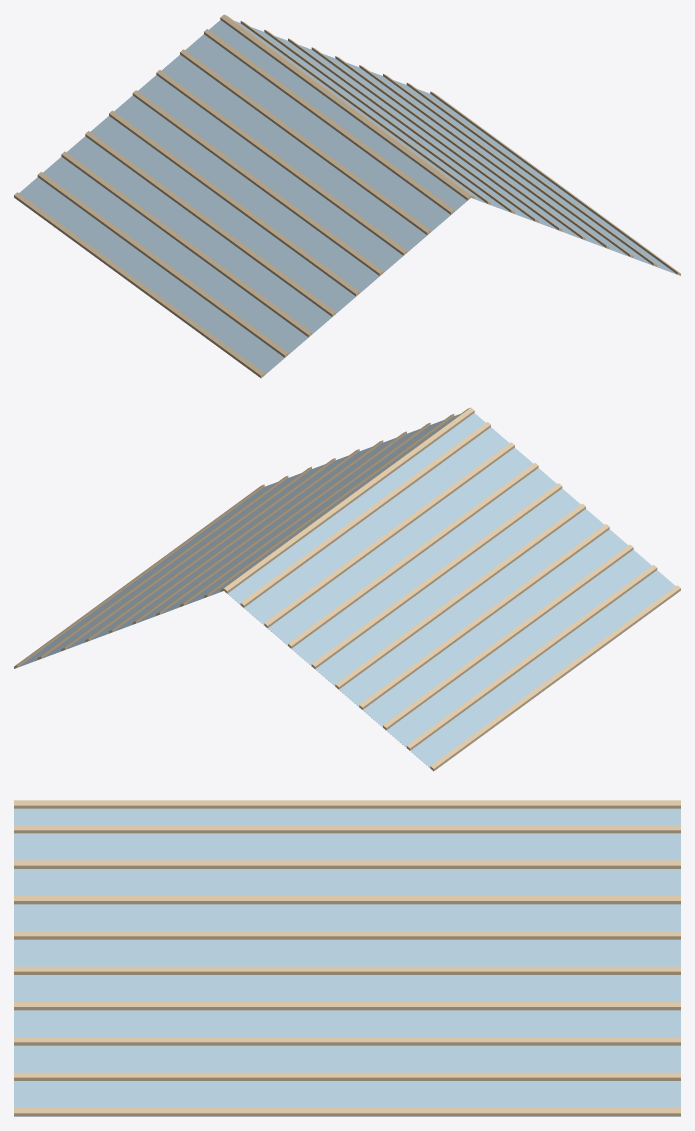
The model's file is stage-5.glb.
3 views of the same model, one above another, from view 1: azimuth 30°, elevation 25°; view 2: azimuth 150°, elevation 25°; view 3: azimuth 270°, elevation 25° (orthographic). The views are drawn at different scales.
Parts seen in each view (by area): view 1: Geom3D (×2); view 2: Geom3D (×2); view 3: Geom3D (×2).
Boxes of the visible parts, <box> form: Geom3D (×2): <box>14,14,680,378</box>; Geom3D (×2): <box>14,407,680,771</box>; Geom3D (×2): <box>14,800,680,1116</box>.
Bounding box in the file's own units: 5.26 × 1.58 × 5.36.
